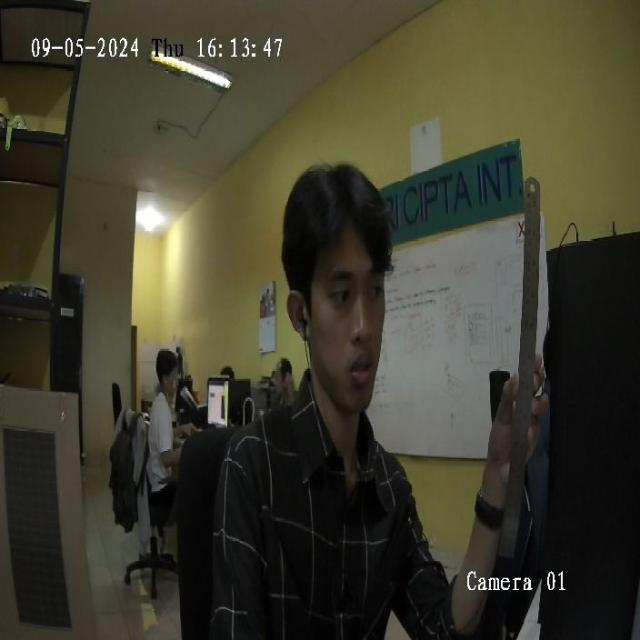Ruler: (500, 177, 539, 558)
